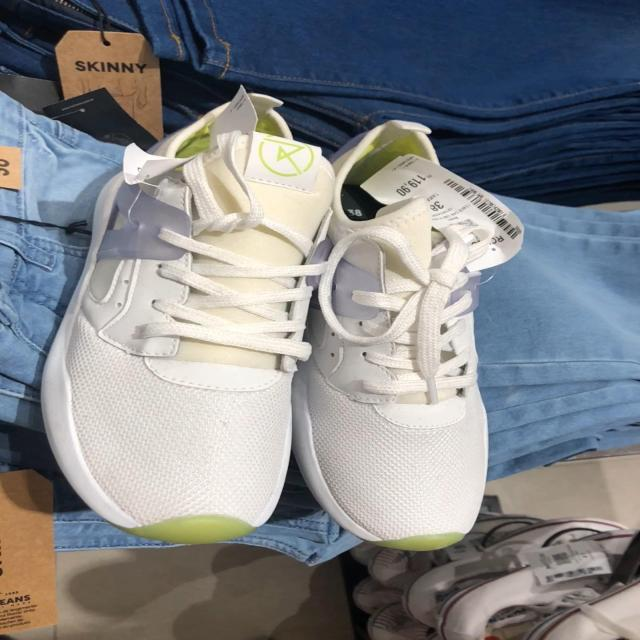shoe: (40, 90, 334, 531), (295, 122, 524, 553)
